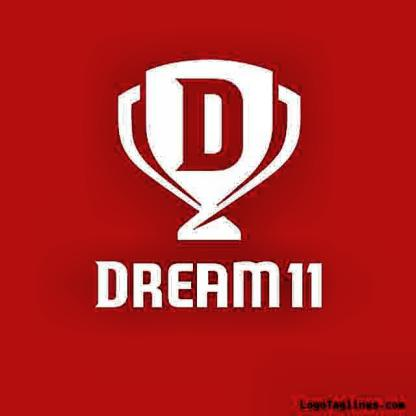Dream11: (113, 57, 305, 250), (94, 254, 320, 308)
